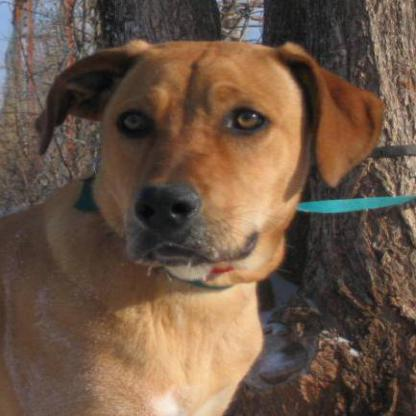dog: (37, 25, 365, 301)
